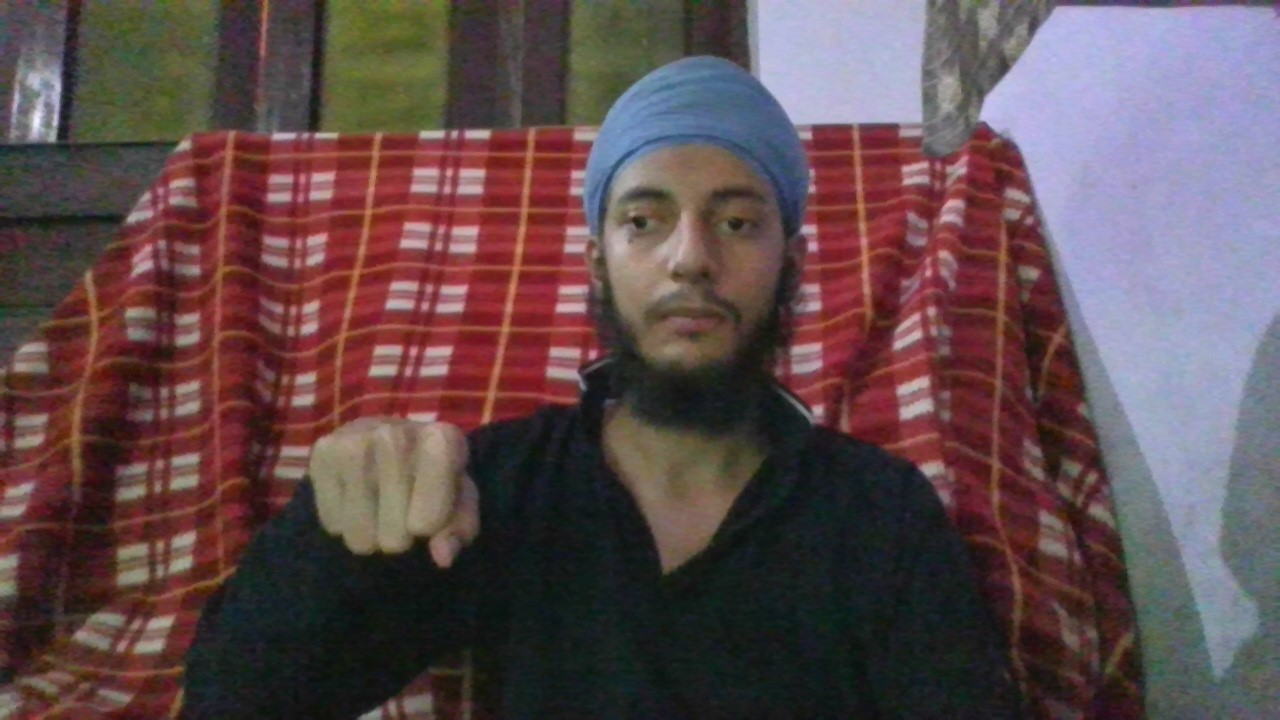Yes: (310, 415, 480, 566)
